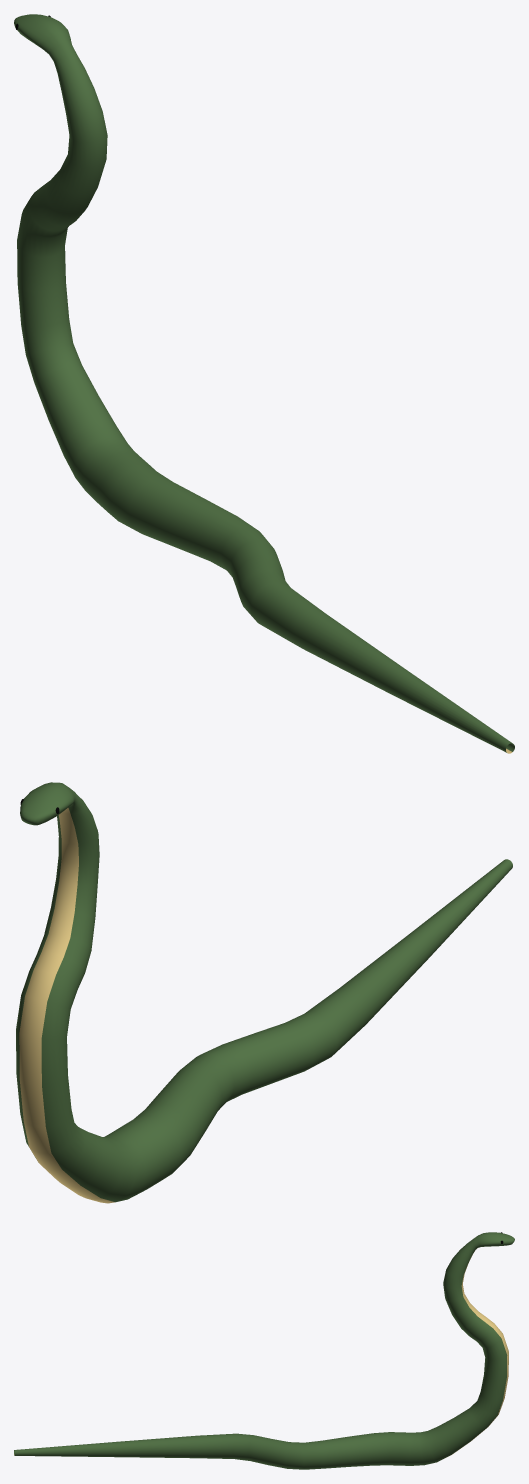
The model's file is Snake.fbx.
3 renders of one model, top to bottom at view 1: azimuth 30°, elevation 25°; view 2: azimuth 150°, elevation 25°; view 3: azimuth 270°, elevation 25°, orthographic. The views are drawn at different scales.
Parts seen in each view (by area): view 1: Snake; view 2: Snake; view 3: Snake.
Boxes of the visible parts, bbox=[...] form: Snake: bbox=[14, 14, 514, 753]; Snake: bbox=[16, 782, 512, 1203]; Snake: bbox=[14, 1232, 514, 1469].
Size of the model in its own units: 12.2 by 66.04 by 130.
